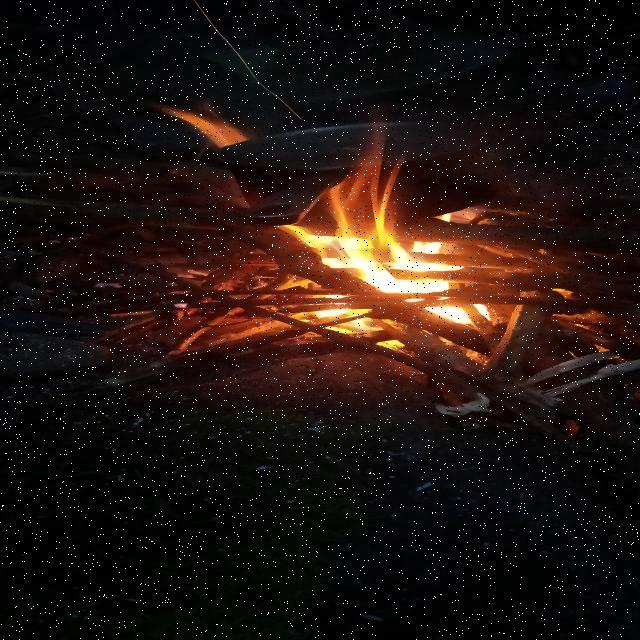fire: (191, 119, 564, 408)
